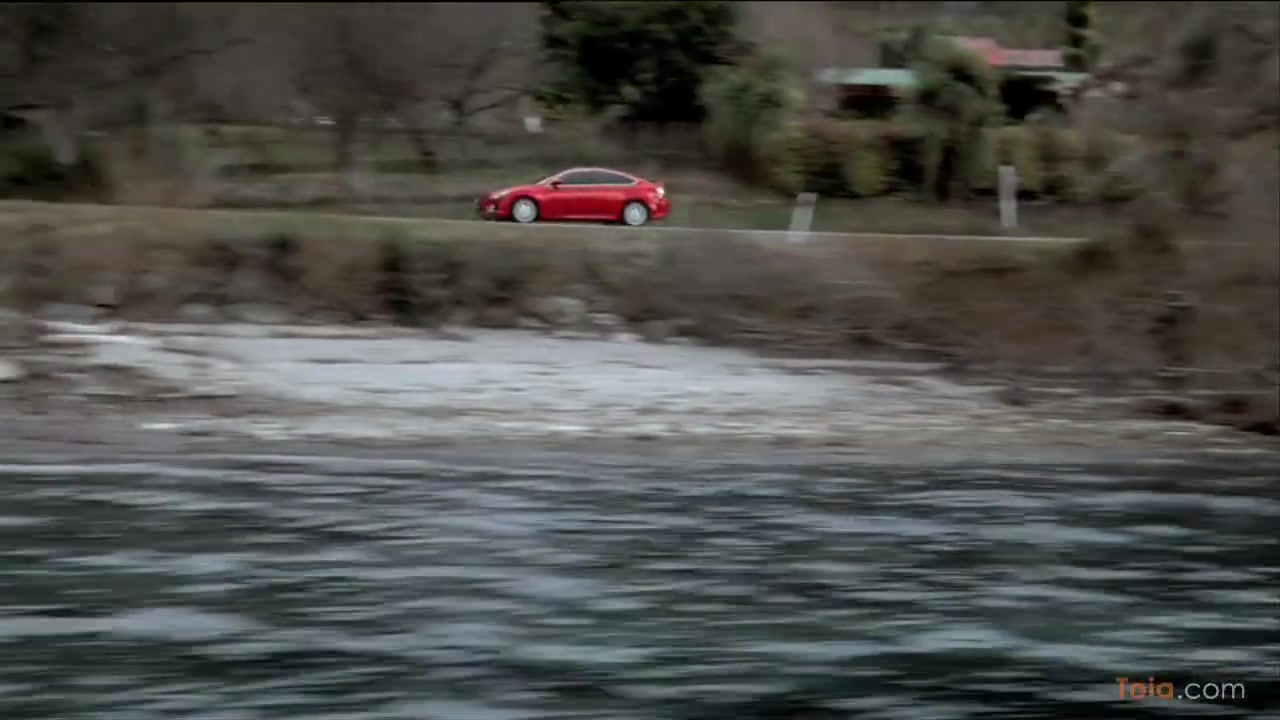car: (475, 162, 673, 229)
